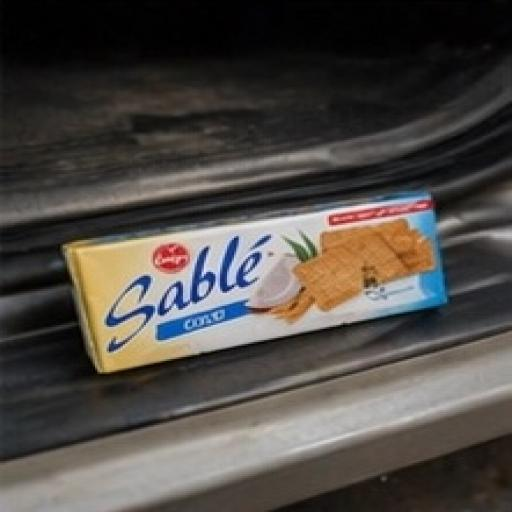sable: (35, 149, 498, 427)
